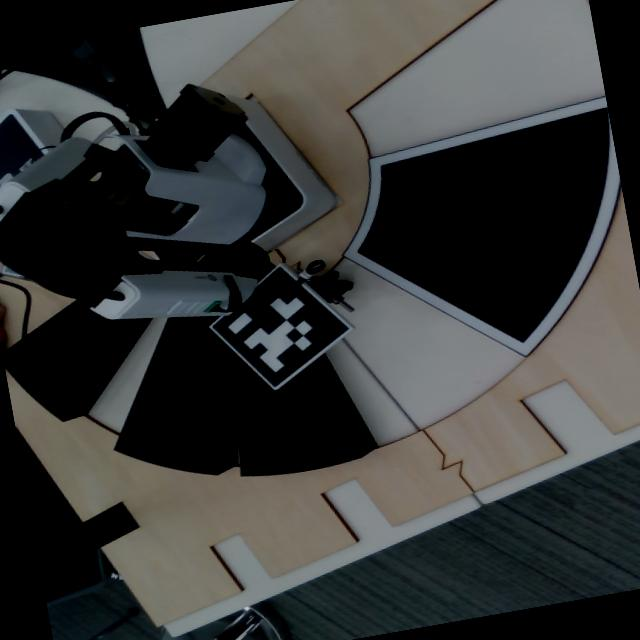board: (310, 101, 640, 372)
box: (204, 293, 379, 480), (0, 241, 167, 429), (115, 289, 244, 471)
